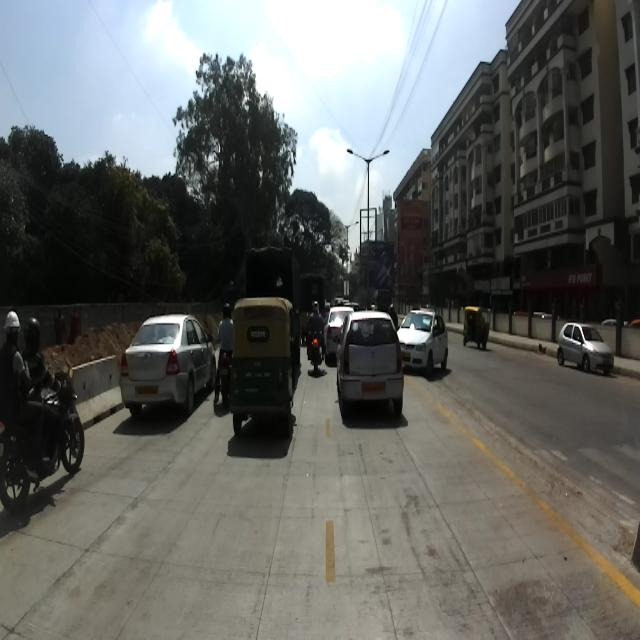auto ahead at: (234, 301, 292, 438)
car ahead at: (120, 308, 216, 432), (340, 314, 408, 428)
motorcycle ahead at: (0, 366, 89, 518)
